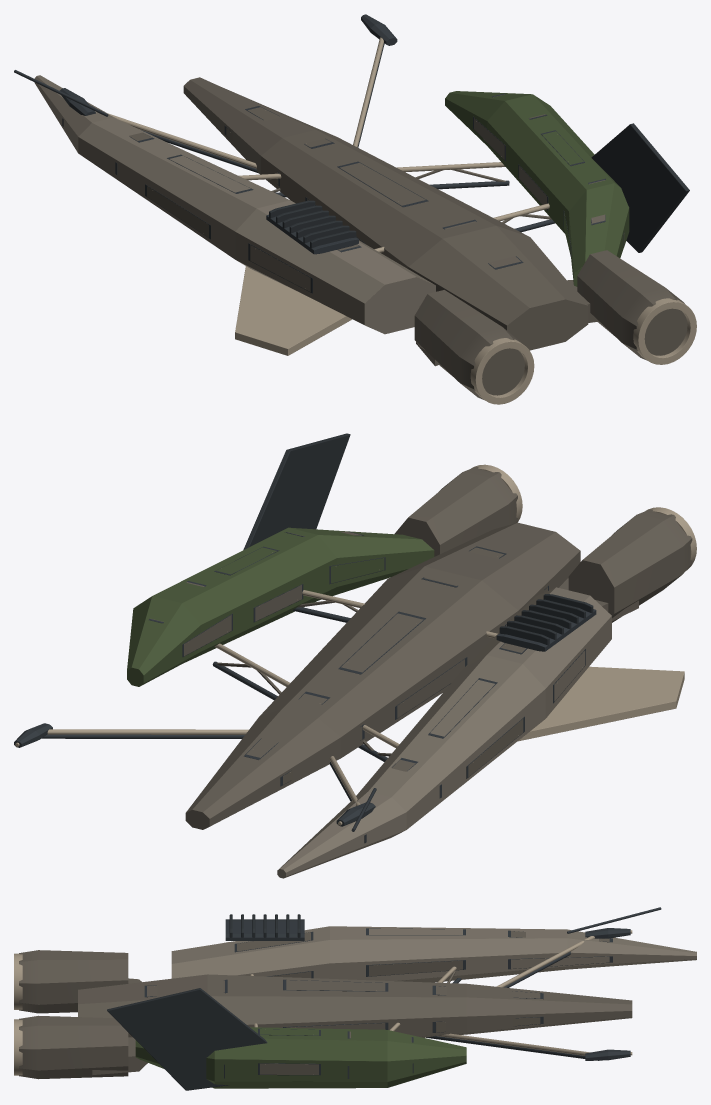
The model's file is frigate_kestrel.glb.
3 renders of one model, top to bottom at view 1: azimuth 30°, elevation 25°; view 2: azimuth 150°, elevation 25°; view 3: azimuth 270°, elevation 25°, orthographic. The views are drawn at different scales.
Visible parts, largest first — view 1: v4_roaming_secondary, v4_roaming_hull, v4_roaming_paint, v4_roaming_trim, v4_roaming_ceramic, v4_roaming_dark; view 2: v4_roaming_secondary, v4_roaming_hull, v4_roaming_paint, v4_roaming_trim, v4_roaming_ceramic, v4_roaming_dark; view 3: v4_roaming_secondary, v4_roaming_hull, v4_roaming_paint, v4_roaming_ceramic, v4_roaming_dark, v4_roaming_trim.
Boxes of the visible parts, x1,y1,x2,y2 form: v4_roaming_secondary: (90, 77, 687, 399); v4_roaming_hull: (34, 75, 435, 334); v4_roaming_paint: (445, 91, 629, 286); v4_roaming_trim: (95, 37, 696, 404); v4_roaming_ceramic: (269, 123, 689, 252); v4_roaming_dark: (14, 14, 624, 293); v4_roaming_secondary: (150, 466, 692, 829); v4_roaming_hull: (277, 587, 611, 878); v4_roaming_paint: (127, 527, 434, 686); v4_roaming_trim: (15, 464, 696, 825); v4_roaming_ceramic: (243, 433, 593, 645); v4_roaming_dark: (14, 531, 596, 843); v4_roaming_secondary: (19, 931, 632, 1079); v4_roaming_hull: (171, 926, 696, 982); v4_roaming_paint: (135, 1027, 466, 1088); v4_roaming_ceramic: (107, 914, 300, 1090); v4_roaming_dark: (144, 907, 661, 1078); v4_roaming_trim: (14, 930, 632, 1075).
Size of the model in its own units: 16.38 by 5.49 by 28.47.
